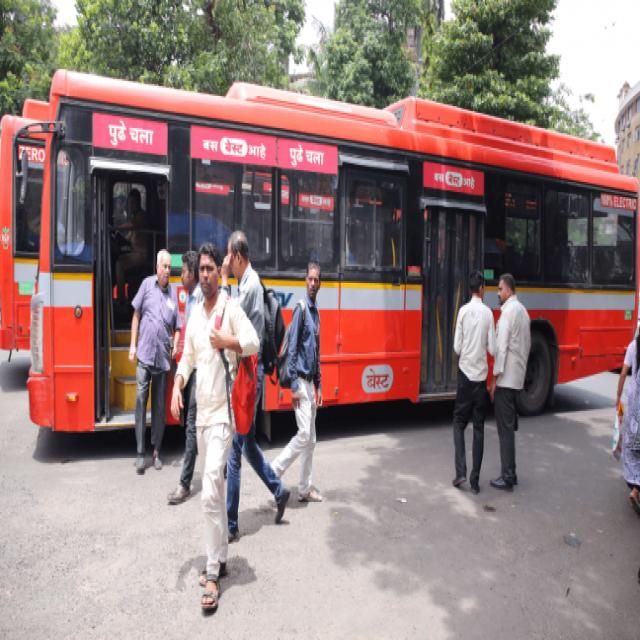bus: (2, 70, 640, 431)
